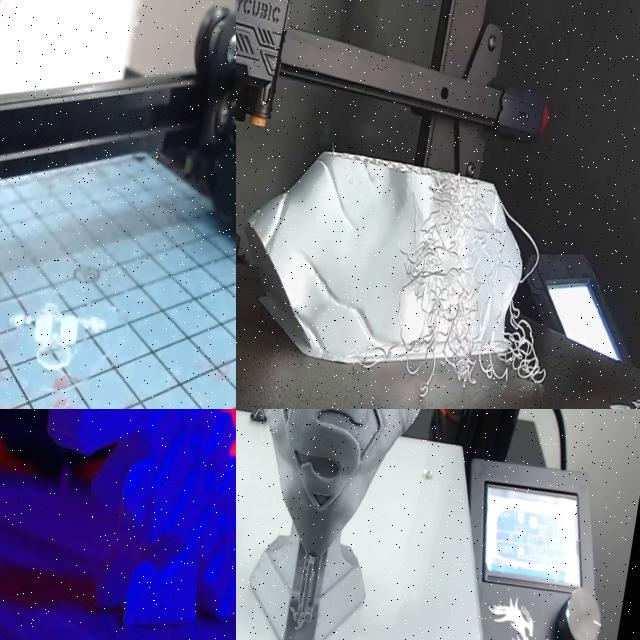spaghetti: (355, 156, 586, 409)
